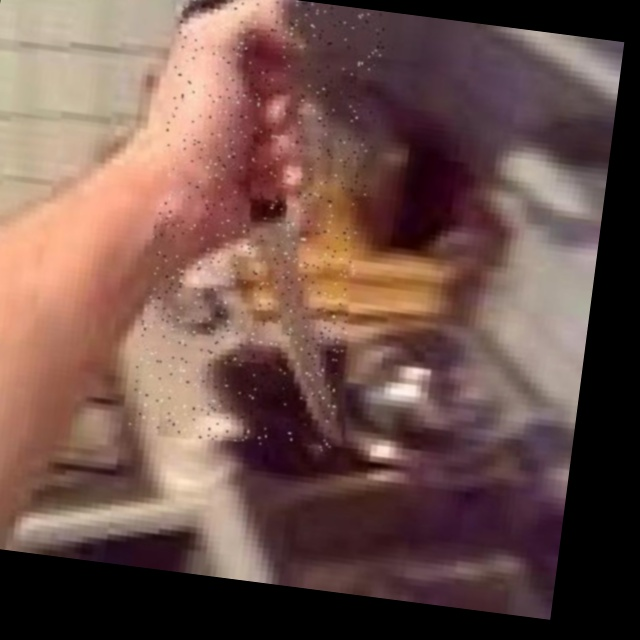Sharp-Object: (128, 0, 389, 455)
